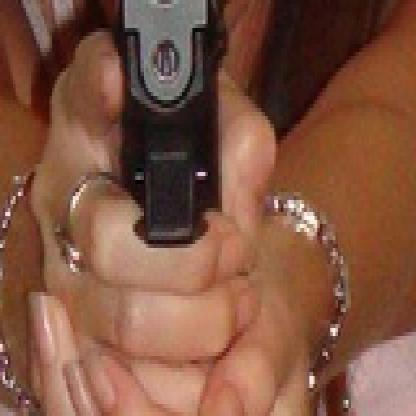gun: (109, 0, 234, 260)
